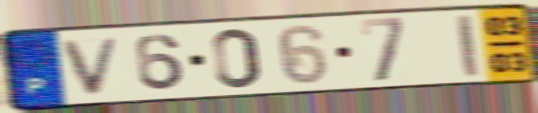0: (209, 26, 262, 90)
6: (275, 23, 331, 88), (133, 33, 188, 93)
7: (357, 15, 408, 86)
I: (452, 11, 483, 80)
V: (59, 34, 125, 97)
